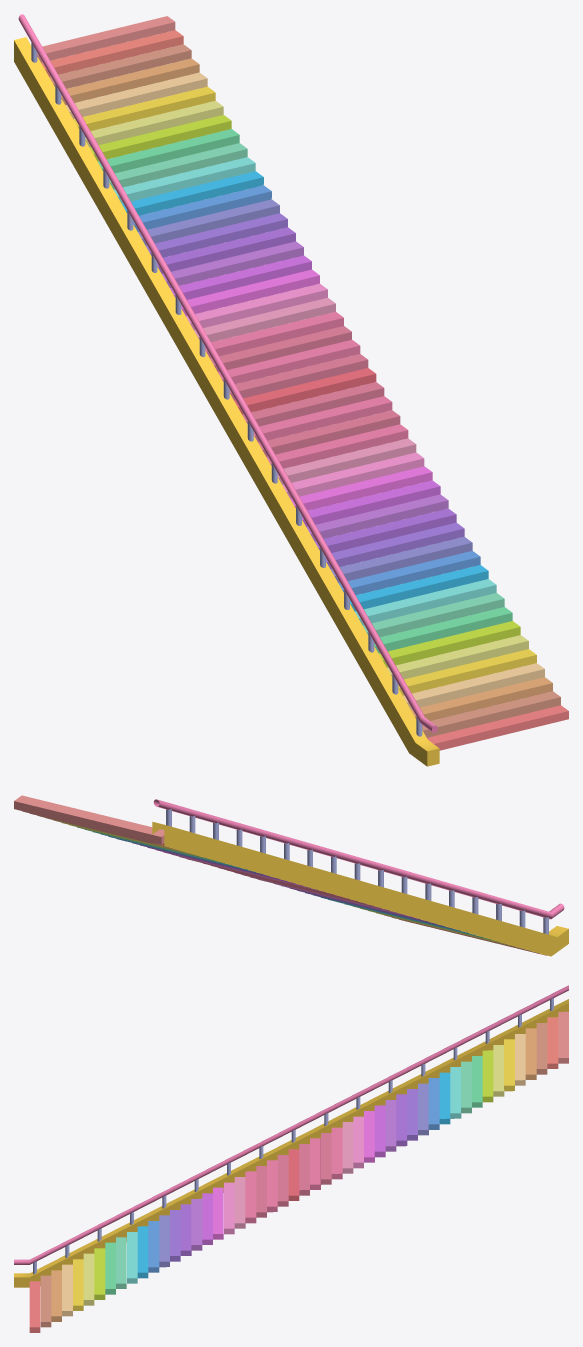
Rendered from Stairs_Start.fbx.
3 views of the same model, one above another, from view 1: azimuth 30°, elevation 25°; view 2: azimuth 150°, elevation 25°; view 3: azimuth 270°, elevation 25° (orthographic). The views are drawn at different scales.
Parts seen in each view (by area): view 1: Stairs_Start; view 2: Stairs_Start; view 3: Stairs_Start.
Part boxes in pixels (bbox=[...]): Stairs_Start: bbox=[14, 14, 568, 766]; Stairs_Start: bbox=[14, 795, 568, 956]; Stairs_Start: bbox=[14, 985, 568, 1332].
Bounding box in the file's own units: 2.46 × 6.86 × 11.47.
